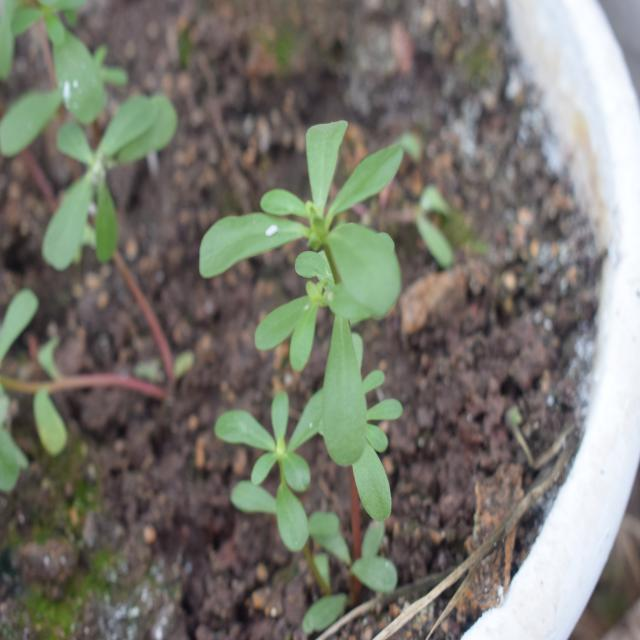purslane: (192, 106, 425, 591)
